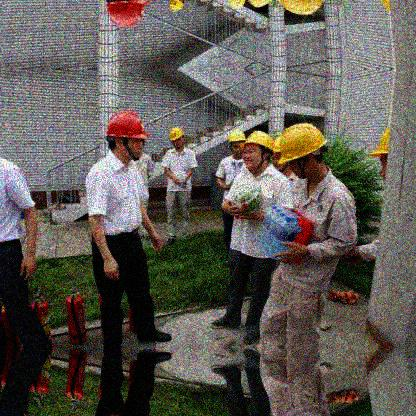helmet: (281, 122, 328, 179), (107, 110, 151, 162), (243, 129, 273, 168), (227, 131, 246, 157), (170, 127, 185, 152)
